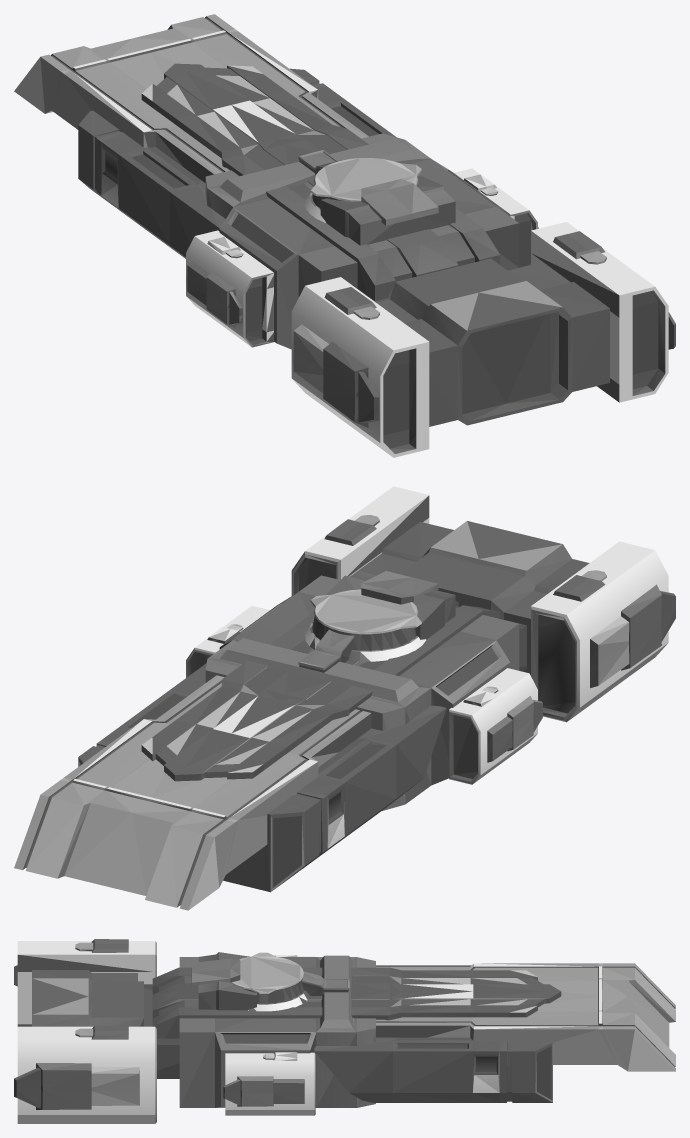
File: siege_tube.glb
3 views of the same model, one above another, from view 1: azimuth 30°, elevation 25°; view 2: azimuth 150°, elevation 25°; view 3: azimuth 270°, elevation 25° (orthographic). The views are drawn at different scales.
Visible parts, largest first — view 1: Body; view 2: Body; view 3: Body.
Boxes of the visible parts, left/top/right/bottom form: Body: left=14, top=14, right=675, bottom=457; Body: left=14, top=486, right=675, bottom=910; Body: left=14, top=939, right=675, bottom=1123.
Size of the model in its own units: 7.5 by 3.21 by 18.
Materials: 2 (1 with a texture image).
